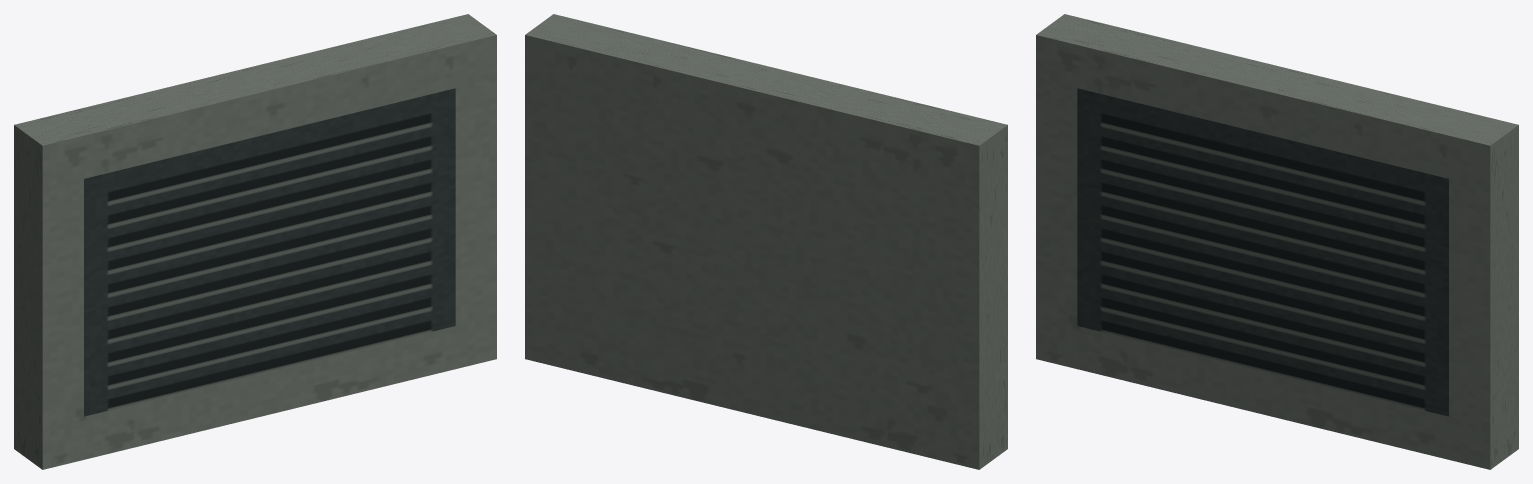
Rendered from VentPanel.fbx.
3 views of the same model, side by side, from view 1: azimuth 30°, elevation 25°; view 2: azimuth 150°, elevation 25°; view 3: azimuth 330°, elevation 25° (orthographic).
Parts seen in each view (by area): view 1: VentPanel; view 2: VentPanel; view 3: VentPanel.
Part boxes in pixels (x1,y1,x2,y2): VentPanel: (14,14,496,469); VentPanel: (525,14,1007,469); VentPanel: (1036,14,1518,469).
Size of the model in its own units: 110 by 75 by 12.
